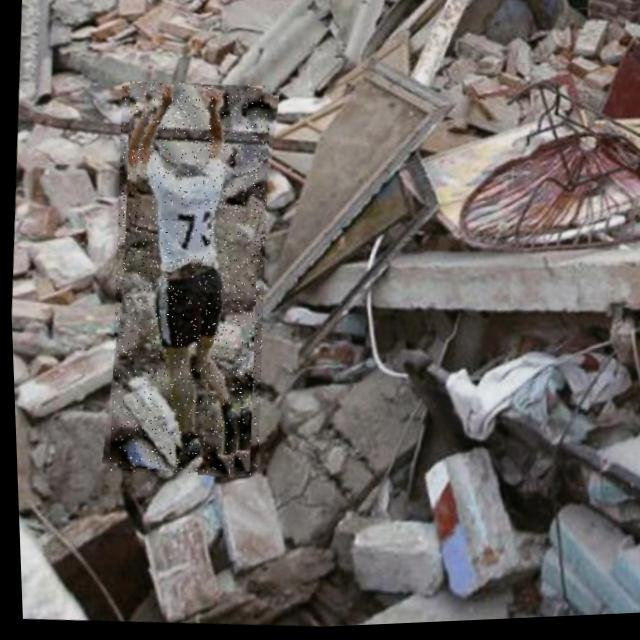Person in Rubble: (94, 78, 281, 483)
